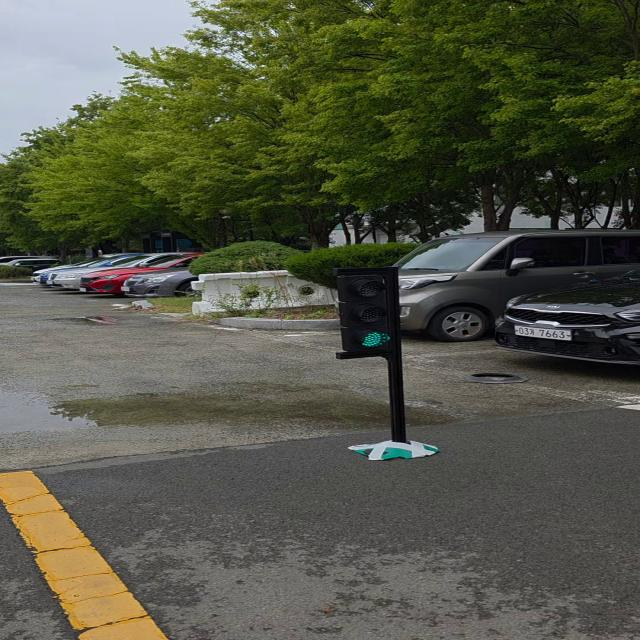green: (335, 268, 404, 359)
